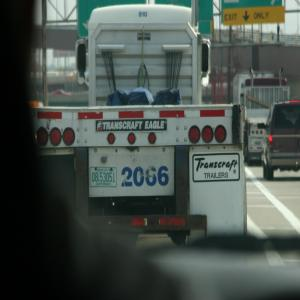Vehicle-registration-plate: (89, 142, 184, 203)
